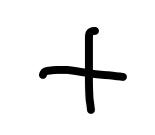plus: (38, 25, 127, 108)
